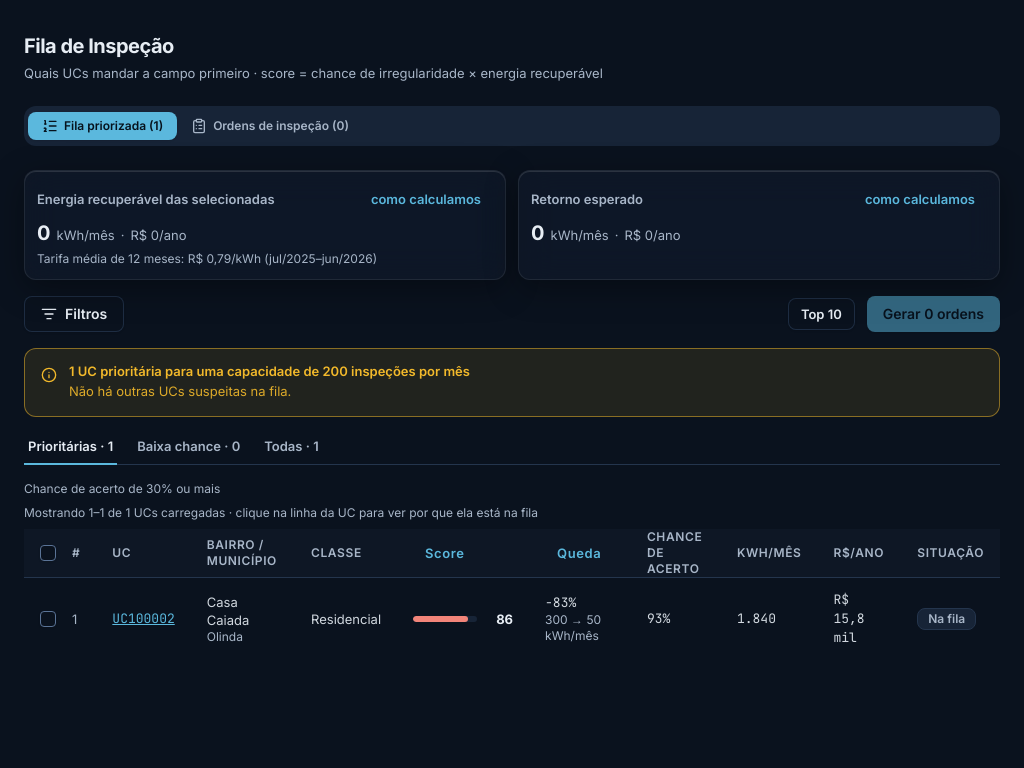
Test case: Painel de detalhe da UC › reaproveita o detalhe em cache ao reabrir a mesma UC
Click the text "Casa Caiada". click: point(228, 610)
box: [207,594,249,628]
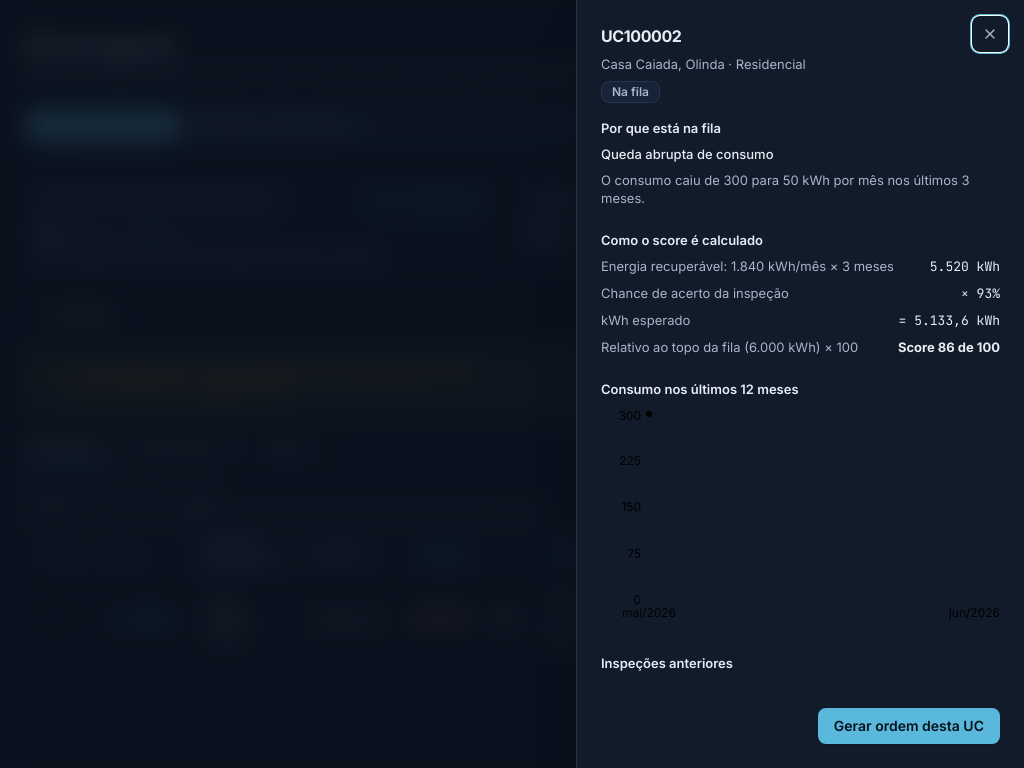
Expected: the text "Score 86 de 100" is shown, [898,338,1000,356]
Click the button named "Fechar". click: point(990, 34)
box: [972,16,1008,52]
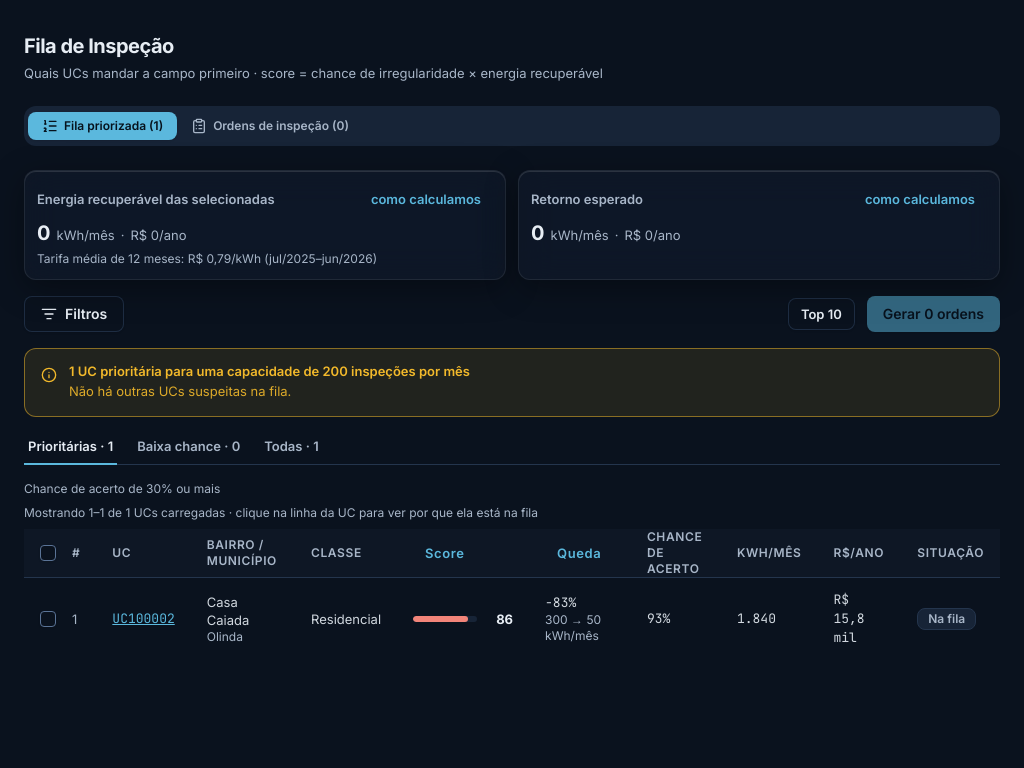
Click the text "Casa Caiada". click: point(228, 610)
box: [207,594,249,628]
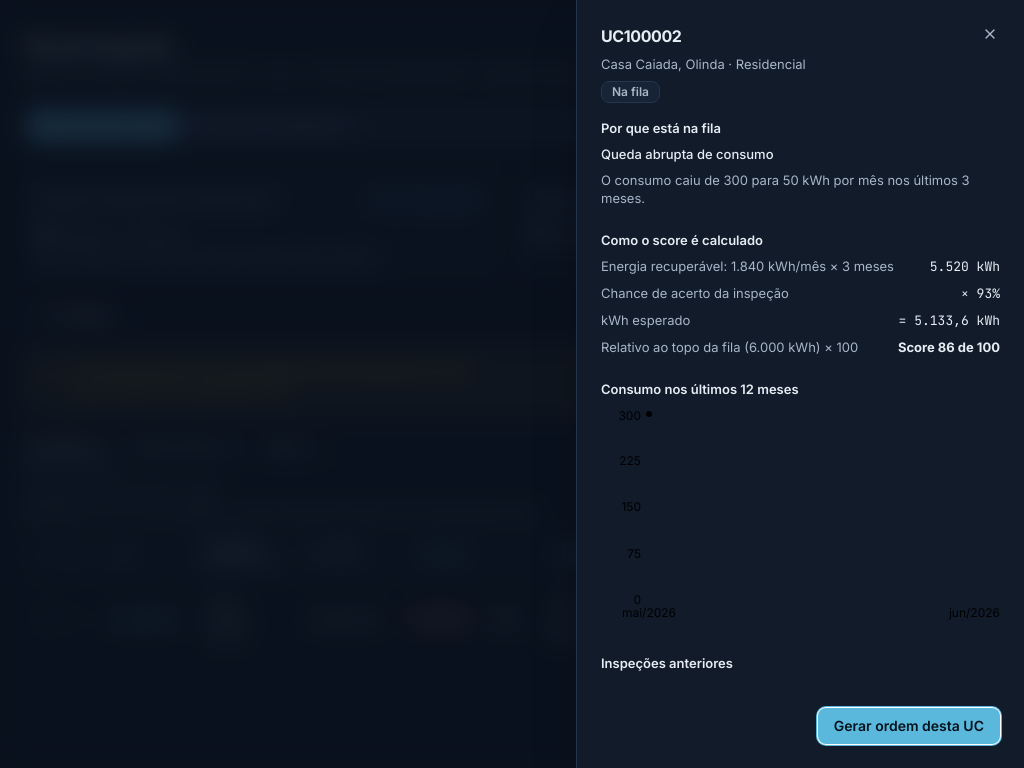
Expected: the text "Score 86 de 100" is shown, [898,338,1000,356]
